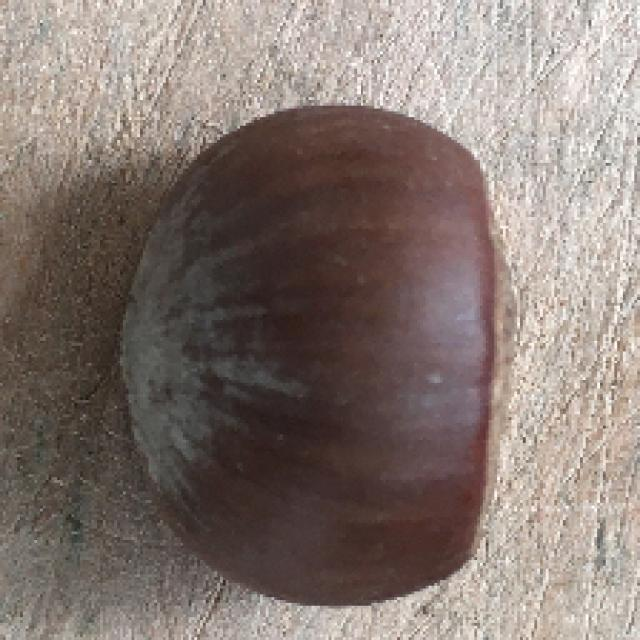qualityHazelnut: (119, 104, 508, 610)
